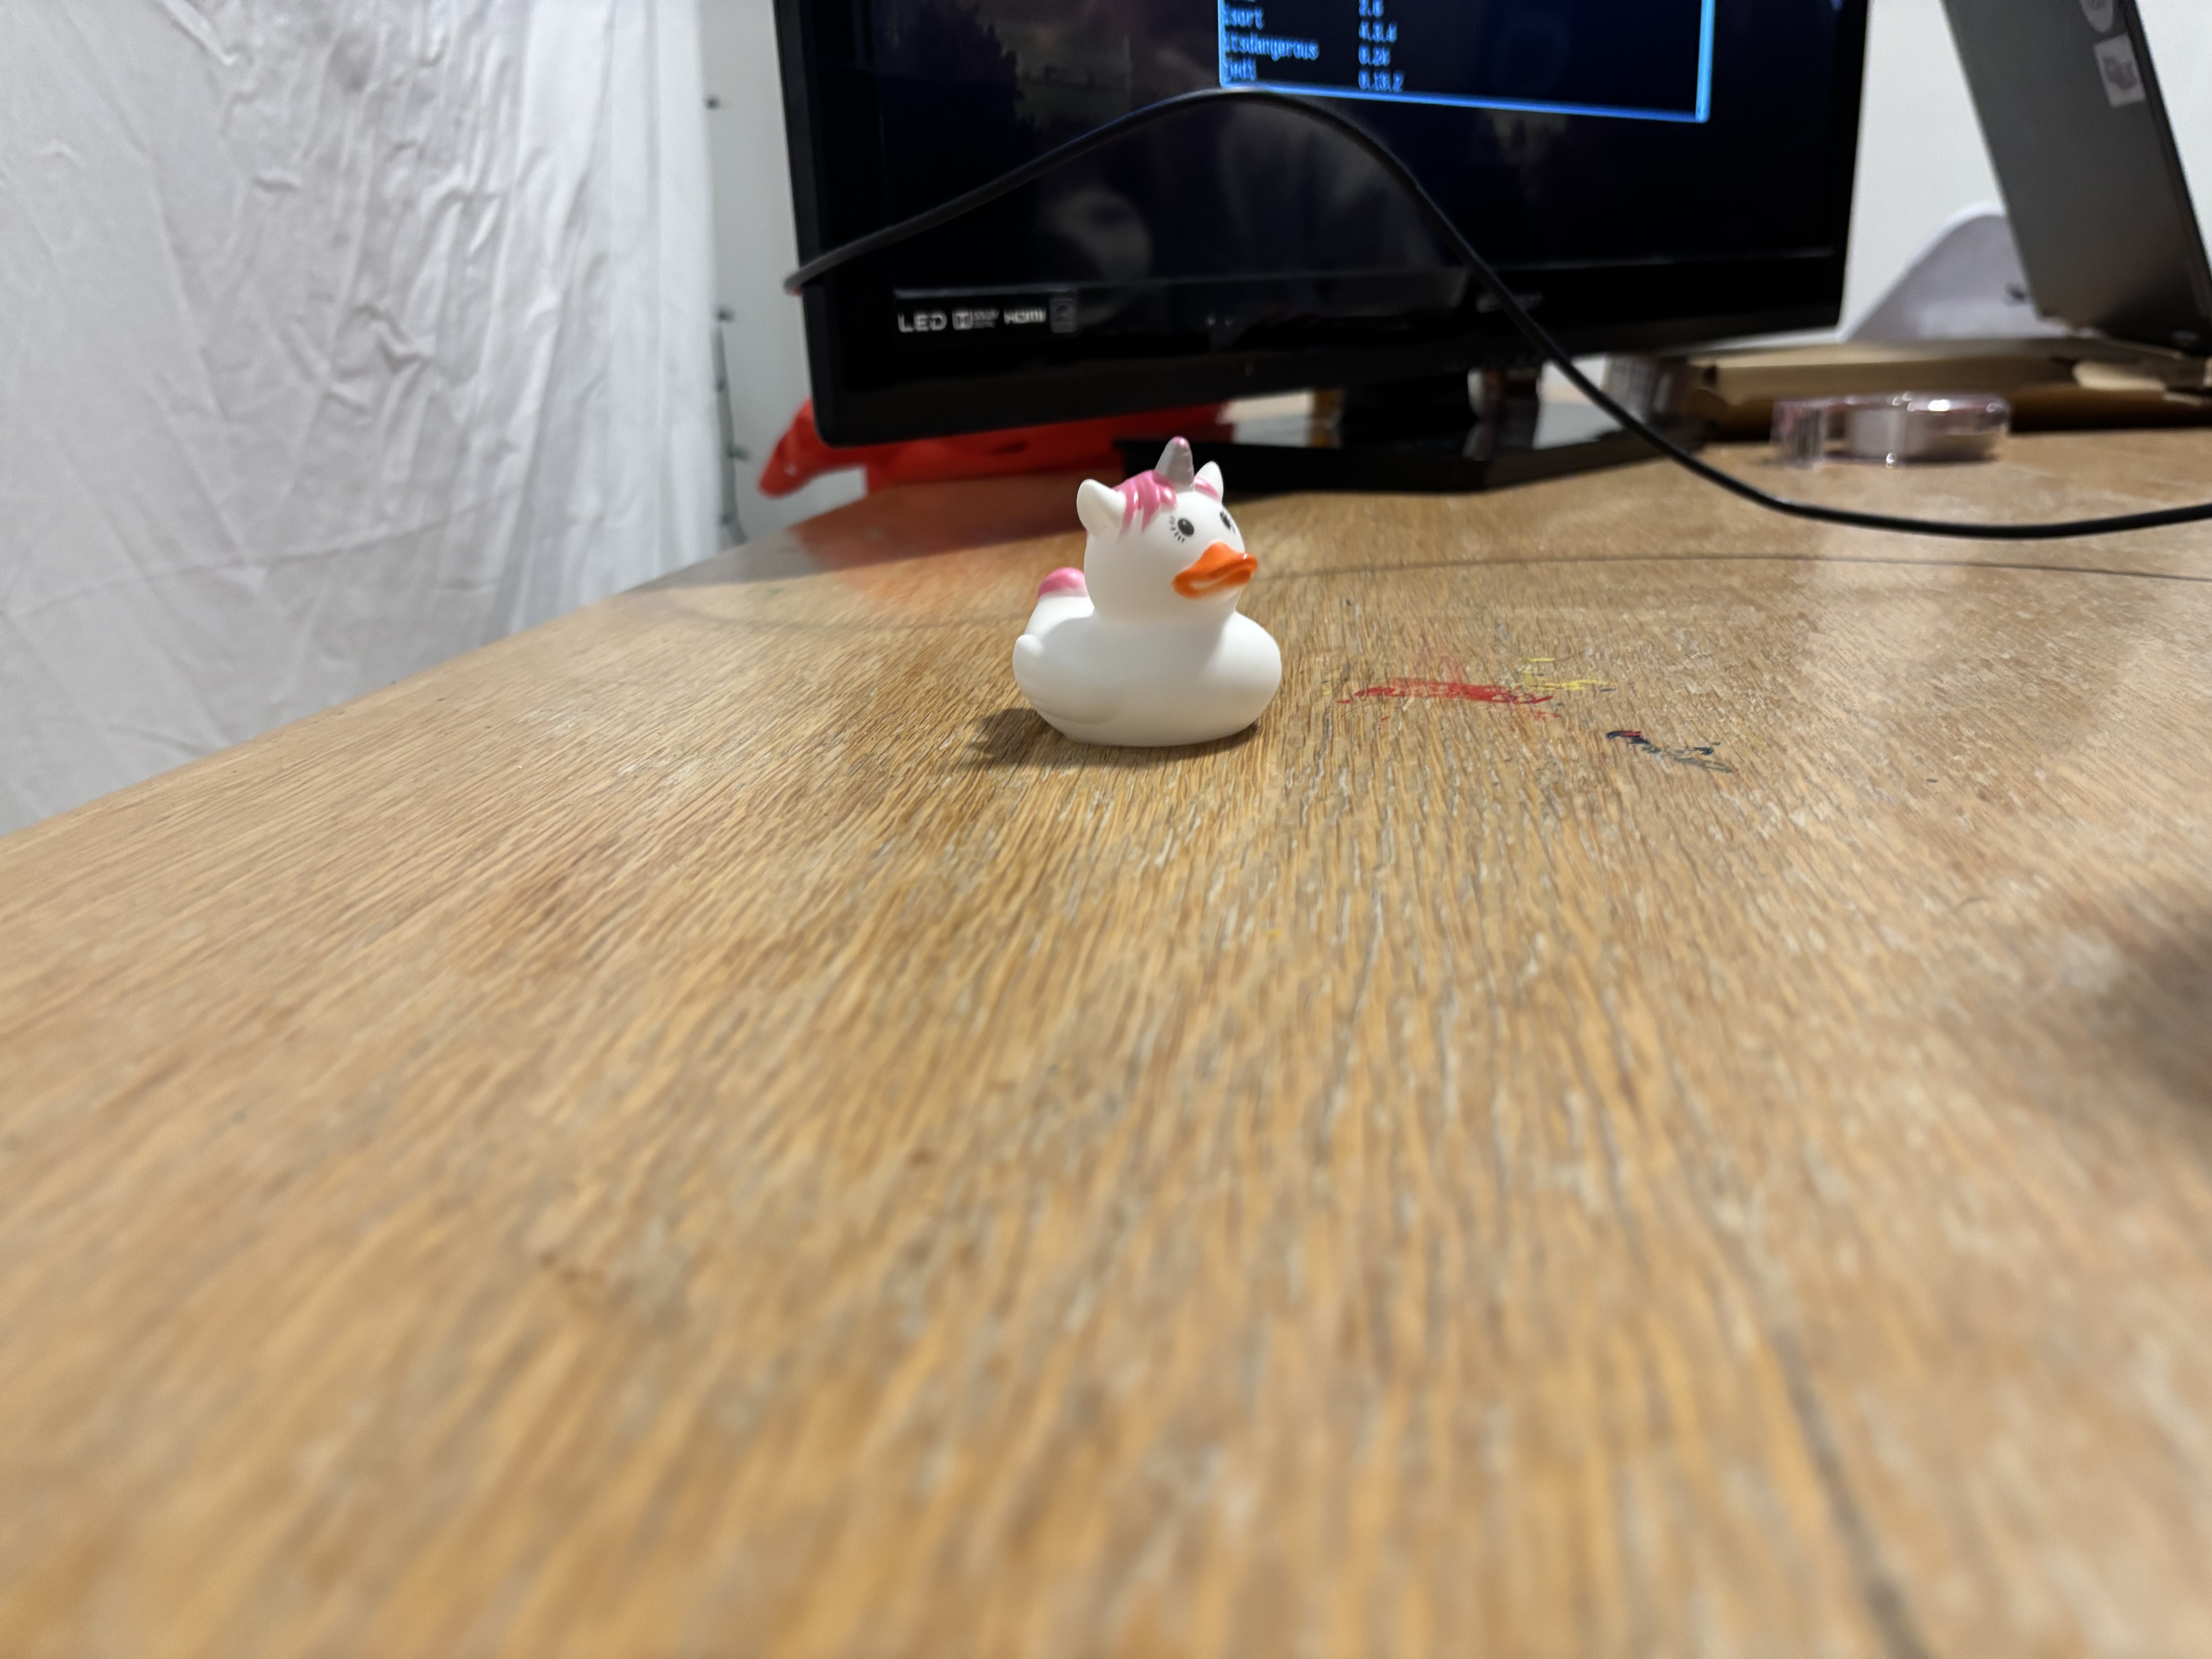Ducks (Specialty): (993, 436, 1294, 756)
